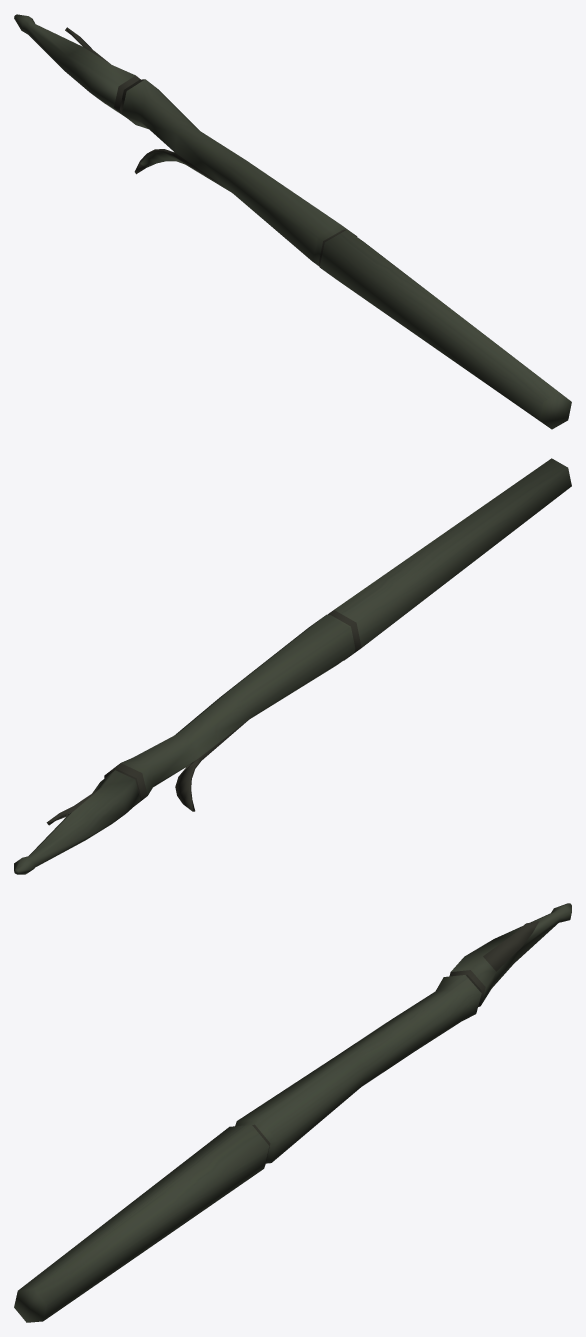
The model's file is Phase 4 Bamboo 4.fbx.
The picture shows the model from 3 angles, top to bottom: view 1: azimuth 30°, elevation 25°; view 2: azimuth 150°, elevation 25°; view 3: azimuth 330°, elevation 25°; orthographic projection.
Parts seen in each view (by area): view 1: Phase 4 Bamboo 4; view 2: Phase 4 Bamboo 4; view 3: Phase 4 Bamboo 4.
Boxes of the visible parts, x1,y1,x2,y2 form: Phase 4 Bamboo 4: (14, 14, 571, 429); Phase 4 Bamboo 4: (14, 458, 571, 874); Phase 4 Bamboo 4: (14, 903, 571, 1322).
Size of the model in its own units: 42.04 by 44.98 by 689.
